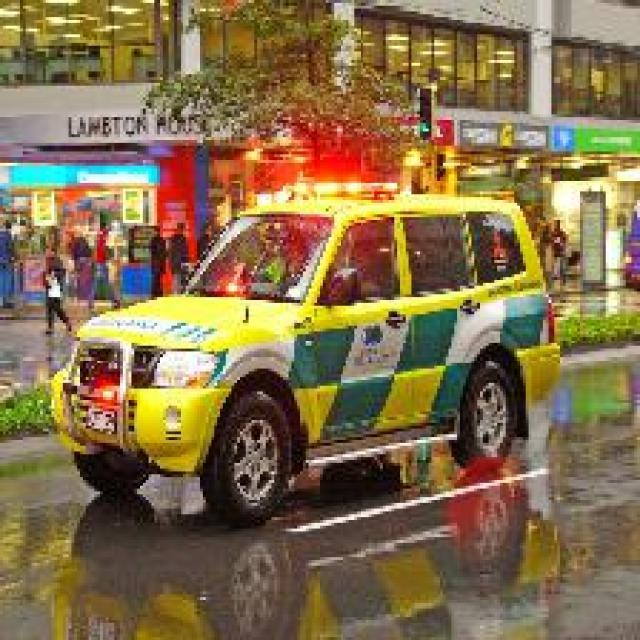emergency: (49, 189, 564, 529)
